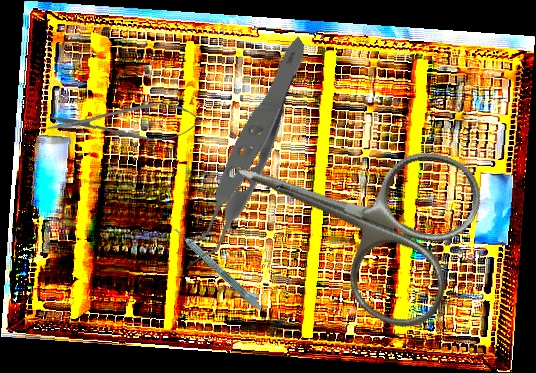Handpiece: (172, 222, 267, 313)
Iris Scissors: (206, 85, 493, 341)
Micro Scissor: (46, 100, 204, 144)
Tissue Forceps: (111, 33, 374, 273)
